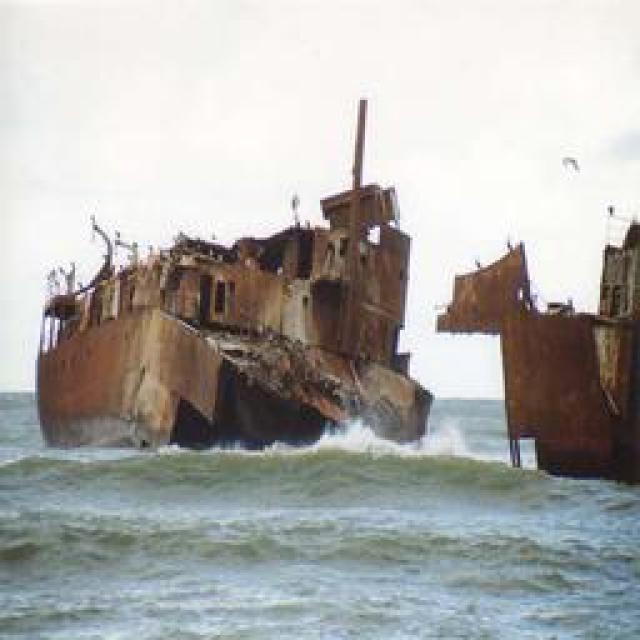Ship: (36, 203, 436, 458)
